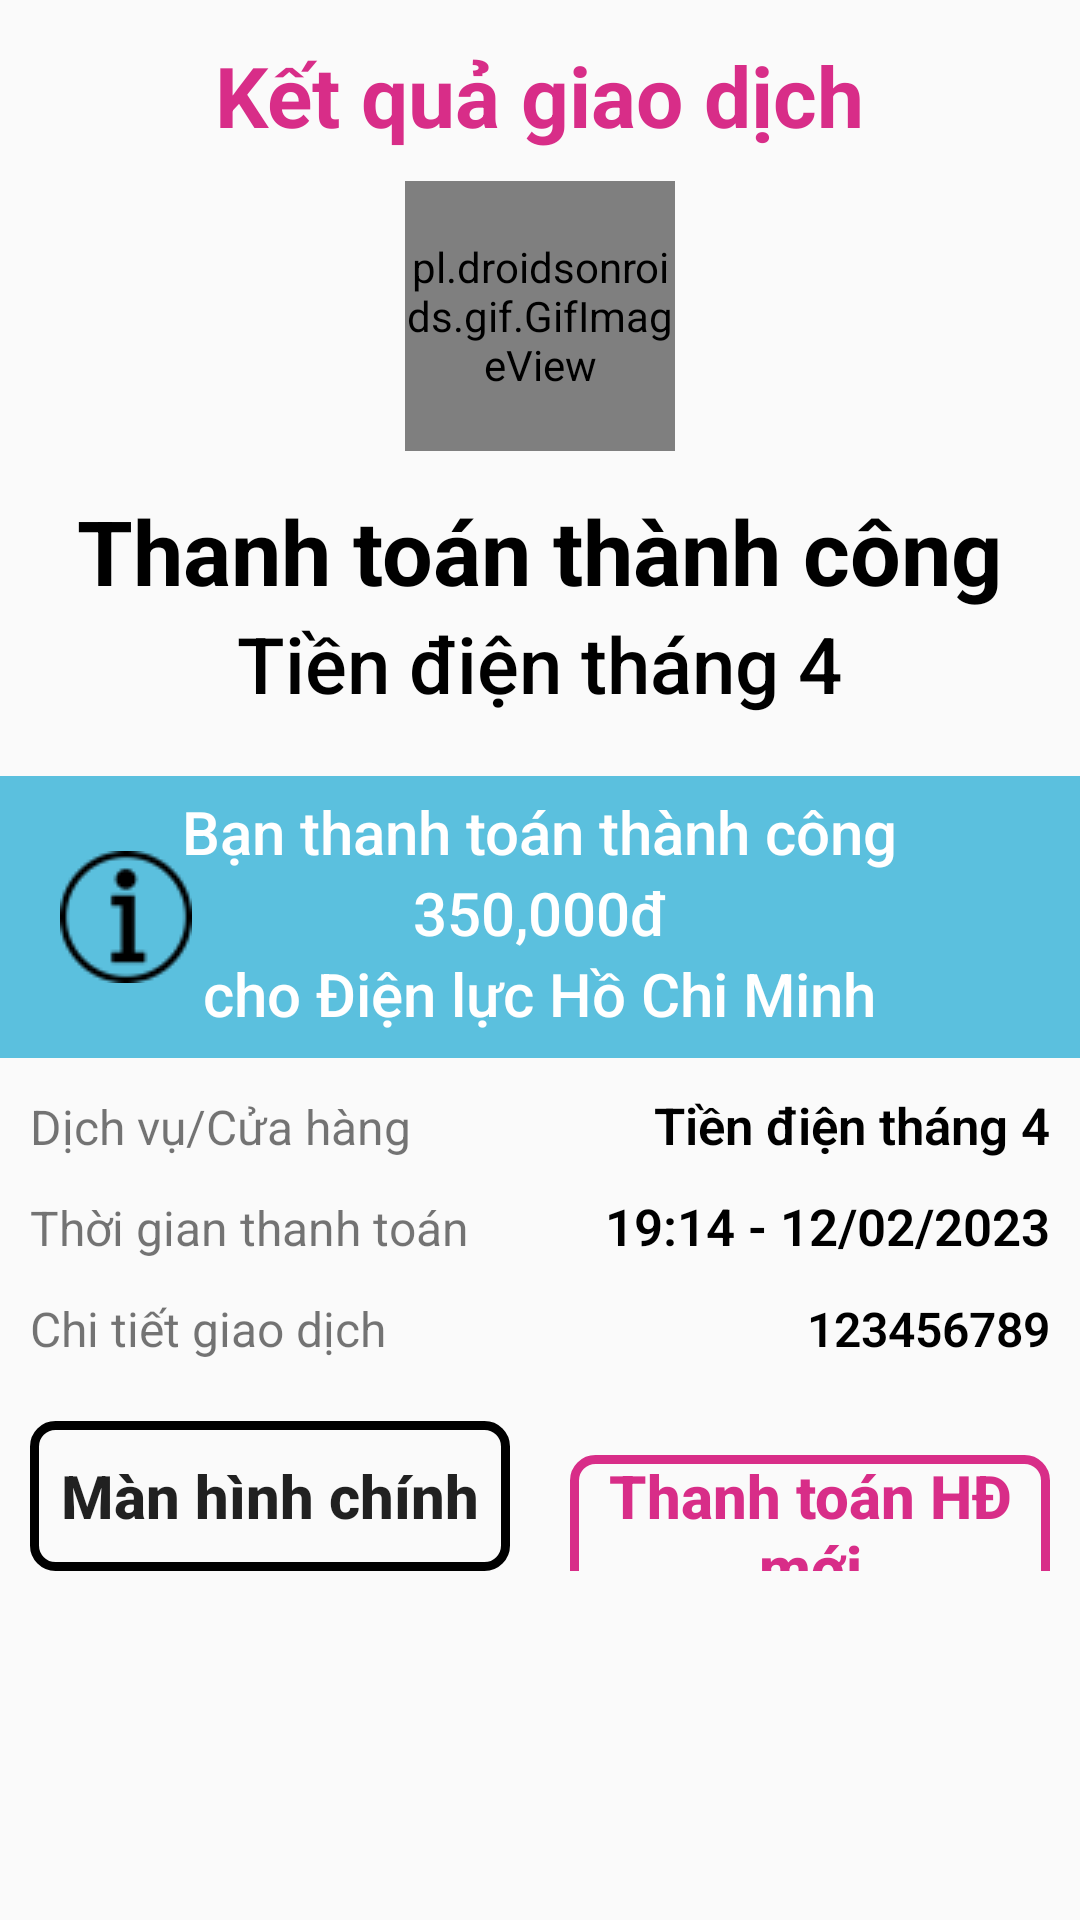

Icon click points for this 1080w x 1920h phone screenshot, format point (x, y):
info: point (126, 917)
